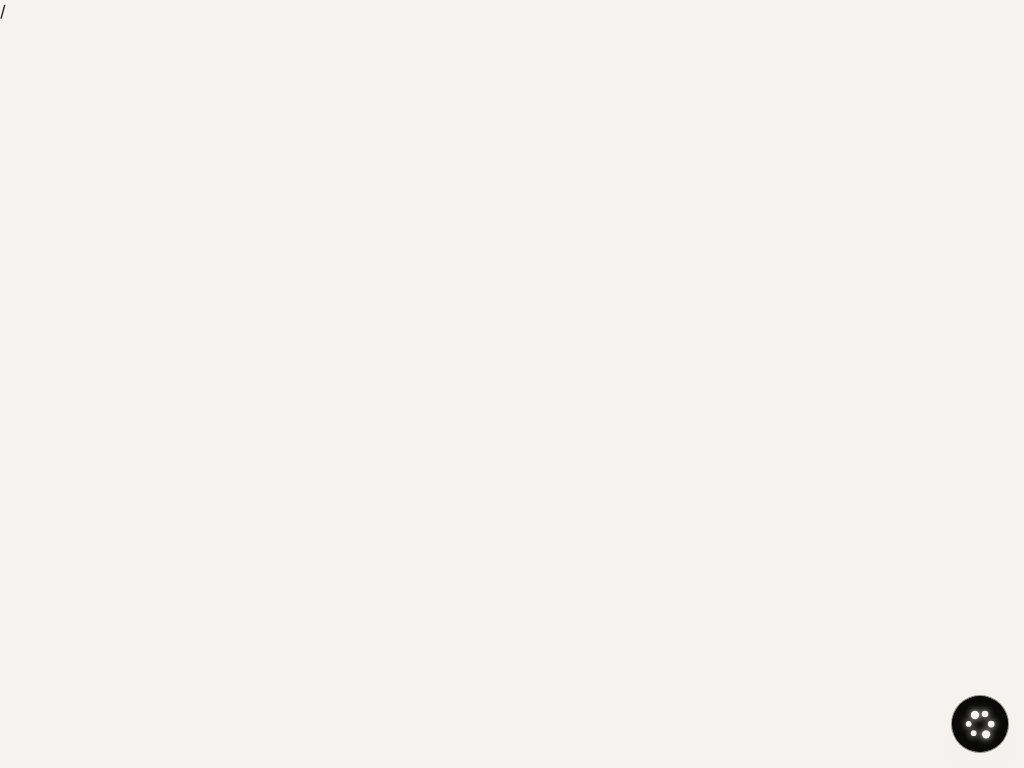
Scenario: Asistente › avisa que las respuestas son simuladas en la versión de demostración
The image size is (1024, 768).
What coordinates should you click on to do the following:
click the button named "Abrir el asistente"
I would click on:
 (980, 724)
Its box is left=952, top=696, right=1008, bottom=752.
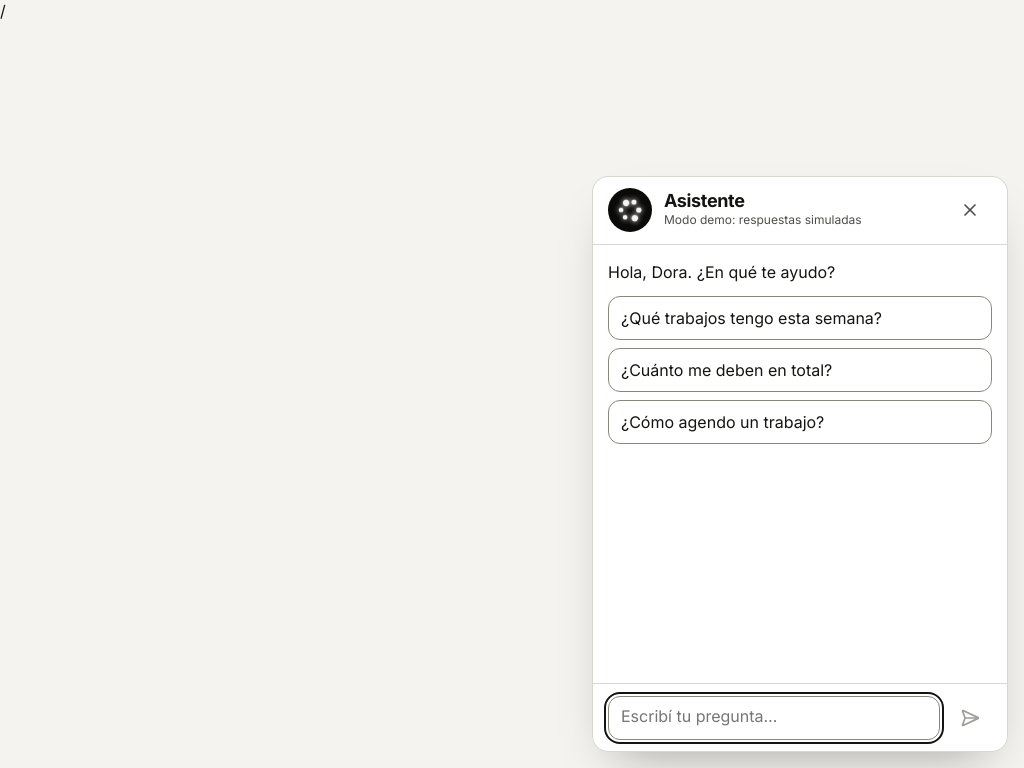
Expected: the text "Modo demo: respuestas simuladas" is shown, left=664, top=212, right=862, bottom=227
